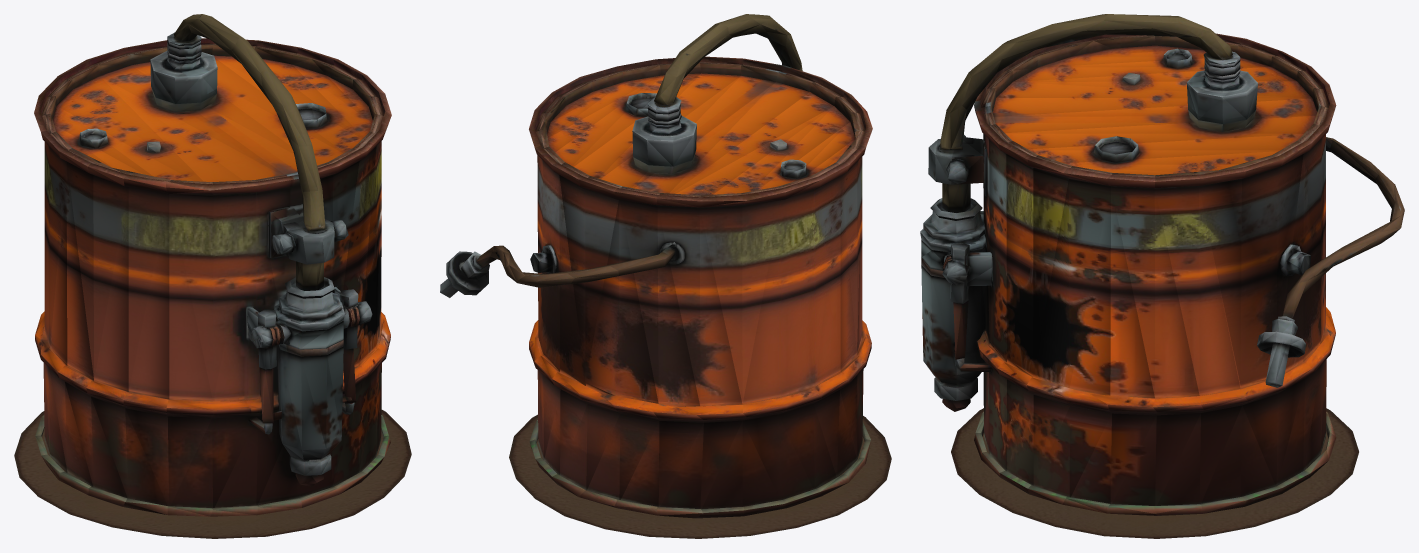
Rendered from wpn_oilslick.glb.
3 views of the same model, side by side, from view 1: azimuth 30°, elevation 25°; view 2: azimuth 150°, elevation 25°; view 3: azimuth 270°, elevation 25° (orthographic). The views are drawn at different scales.
Parts seen in each view (by area): view 1: tripo_node_33ee9f38; view 2: tripo_node_33ee9f38; view 3: tripo_node_33ee9f38.
Boxes of the visible parts, x1=… form: tripo_node_33ee9f38: x1=14, y1=14, x2=411, y2=538; tripo_node_33ee9f38: x1=440, y1=14, x2=891, y2=538; tripo_node_33ee9f38: x1=920, y1=14, x2=1404, y2=538.
Size of the model in its own units: 0.9291 by 0.9988 by 0.9968.
1 material, 1 textured.
